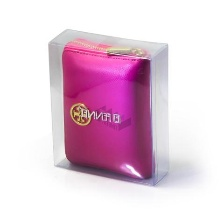plastic_box: (40, 20, 178, 191)
